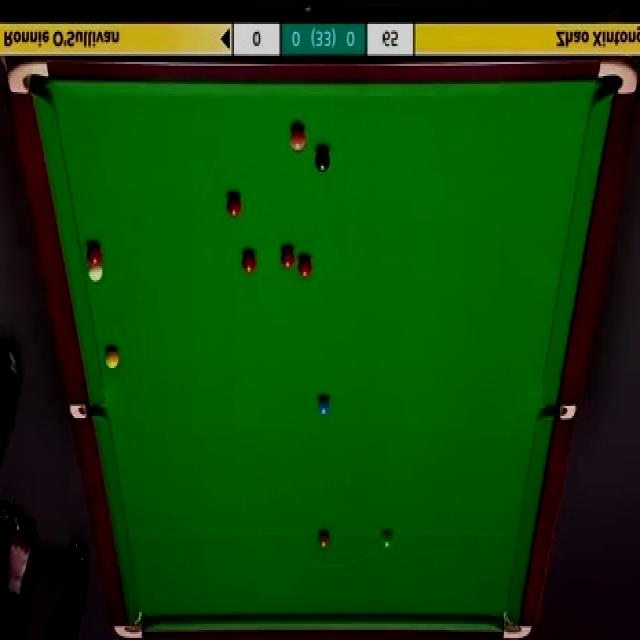black-ball: (315, 148, 331, 174)
blue-ball: (316, 395, 331, 418)
brown-ball: (317, 530, 330, 549)
green-ball: (381, 528, 393, 550)
pink-ball: (288, 126, 308, 154)
red-ball: (242, 248, 258, 276), (225, 194, 243, 218), (280, 243, 296, 270), (87, 240, 102, 266), (298, 254, 312, 279)
white-ball: (89, 262, 103, 286)
yellow-ball: (104, 346, 119, 370)
